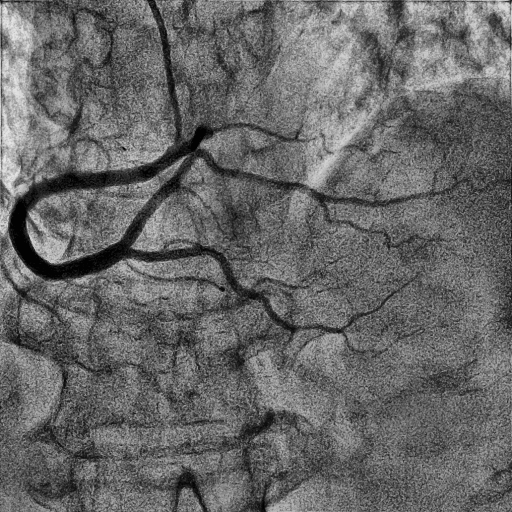pborca: (119, 147, 502, 247)
pda: (126, 246, 399, 334)
rca: (8, 142, 186, 281)
